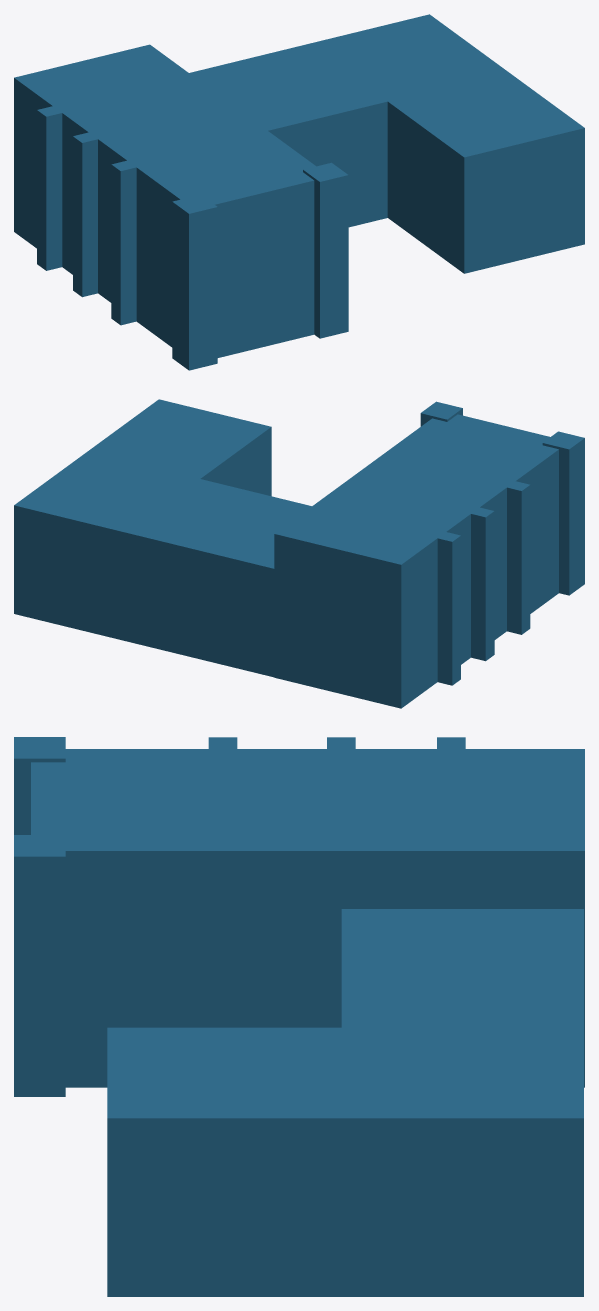
File: SM_Bld_Background_11_Collision.fbx
3 views of the same model, one above another, from view 1: azimuth 30°, elevation 25°; view 2: azimuth 150°, elevation 25°; view 3: azimuth 270°, elevation 25° (orthographic). The views are drawn at different scales.
Parts seen in each view (by area): view 1: SM_Bld_Background_11_Collision; view 2: SM_Bld_Background_11_Collision; view 3: SM_Bld_Background_11_Collision.
Boxes of the visible parts, box(x1,y1,x2,y2) form: SM_Bld_Background_11_Collision: box(14, 14, 584, 370); SM_Bld_Background_11_Collision: box(14, 399, 584, 708); SM_Bld_Background_11_Collision: box(14, 737, 584, 1296).
Size of the model in its own units: 3564 by 1238 by 2663.
